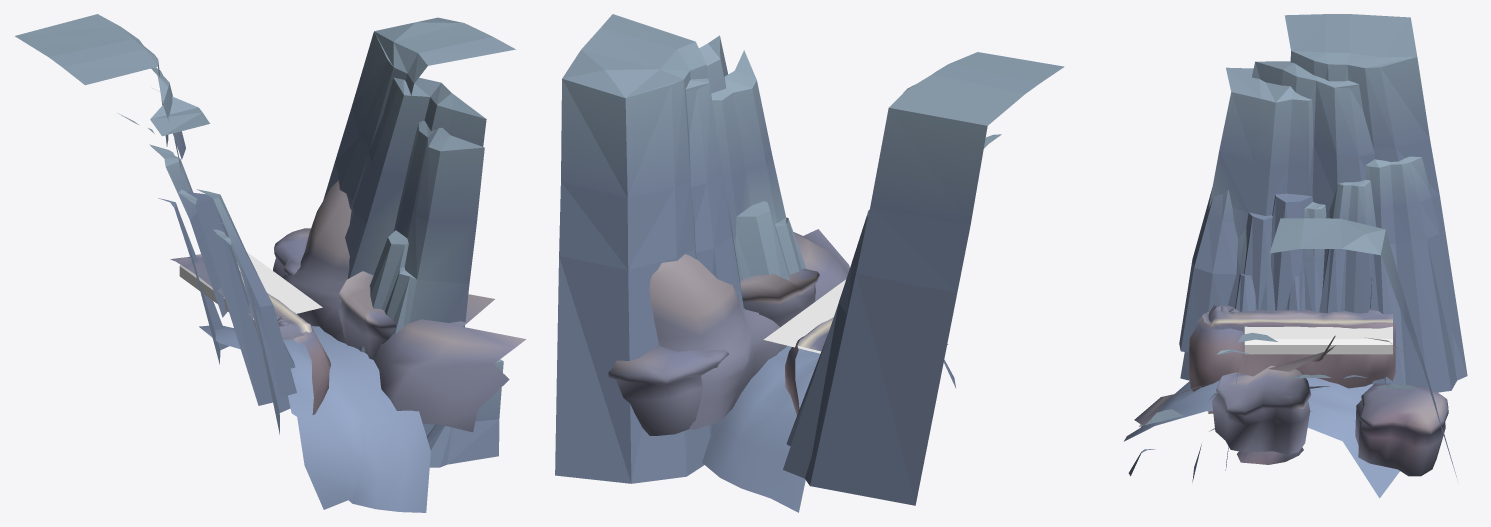
Rendered from Arctic_Narrows_Right_Transition_Pre_A.glb.
3 views of the same model, side by side, from view 1: azimuth 30°, elevation 25°; view 2: azimuth 150°, elevation 25°; view 3: azimuth 270°, elevation 25° (orthographic). The views are drawn at different scales.
Parts seen in each view (by area): view 1: Arctic_Narrows_Right_Transition_Pre_A, Arctic_Narrows_Left_IceWall_A02, Arctic_Narrows_Right_IceWall_A02, Arctic_Narrows_Right_IceWall_A02_Left, Arctic_Narrows_Left_IceWall_A02_Right, Arctic_Narrows_Right_IceWall_A02_Mid, inv_fill, Arctic_Narrows_Right_IceWall_A02_Right; view 2: Arctic_Narrows_Left_IceWall_A02, Arctic_Narrows_Right_IceWall_A02, Arctic_Narrows_Right_Transition_Pre_A, Arctic_Narrows_Right_IceWall_A02_Right, inv_fill; view 3: Arctic_Narrows_Right_IceWall_A02, Arctic_Narrows_Right_Transition_Pre_A, Arctic_Narrows_Right_IceWall_A02_Right, Arctic_Narrows_Right_IceWall_A02_Mid, Arctic_Narrows_Right_IceWall_A02_Left, Arctic_Narrows_Left_IceWall_A02, inv_fill.
Boxes of the visible parts, left/top/right/bottom form: Arctic_Narrows_Right_Transition_Pre_A: left=170, top=180, right=526, bottom=512; Arctic_Narrows_Left_IceWall_A02: left=323, top=17, right=515, bottom=352; Arctic_Narrows_Right_IceWall_A02: left=15, top=14, right=290, bottom=434; Arctic_Narrows_Right_IceWall_A02_Left: left=197, top=189, right=296, bottom=397; Arctic_Narrows_Left_IceWall_A02_Right: left=423, top=359, right=503, bottom=467; Arctic_Narrows_Right_IceWall_A02_Mid: left=149, top=144, right=227, bottom=317; inv_fill: left=179, top=251, right=322, bottom=333; Arctic_Narrows_Right_IceWall_A02_Right: left=118, top=113, right=229, bottom=364; Arctic_Narrows_Left_IceWall_A02: left=555, top=14, right=806, bottom=483; Arctic_Narrows_Right_IceWall_A02: left=805, top=52, right=1064, bottom=505; Arctic_Narrows_Right_Transition_Pre_A: left=608, top=229, right=956, bottom=512; Arctic_Narrows_Right_IceWall_A02_Right: left=783, top=210, right=869, bottom=478; inv_fill: left=763, top=279, right=845, bottom=353; Arctic_Narrows_Right_IceWall_A02: left=1180, top=14, right=1467, bottom=380; Arctic_Narrows_Right_Transition_Pre_A: left=1124, top=305, right=1448, bottom=498; Arctic_Narrows_Right_IceWall_A02_Right: left=1365, top=156, right=1456, bottom=392; Arctic_Narrows_Right_IceWall_A02_Mid: left=1285, top=179, right=1376, bottom=313; Arctic_Narrows_Right_IceWall_A02_Left: left=1179, top=188, right=1275, bottom=352; Arctic_Narrows_Left_IceWall_A02: left=1198, top=218, right=1456, bottom=477; inv_fill: left=1244, top=326, right=1392, bottom=354.
Bounding box in the file's own units: 24.42 × 22.62 × 21.54.
